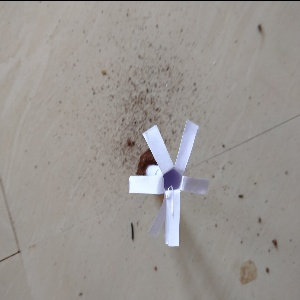weed: (128, 118, 217, 248)
